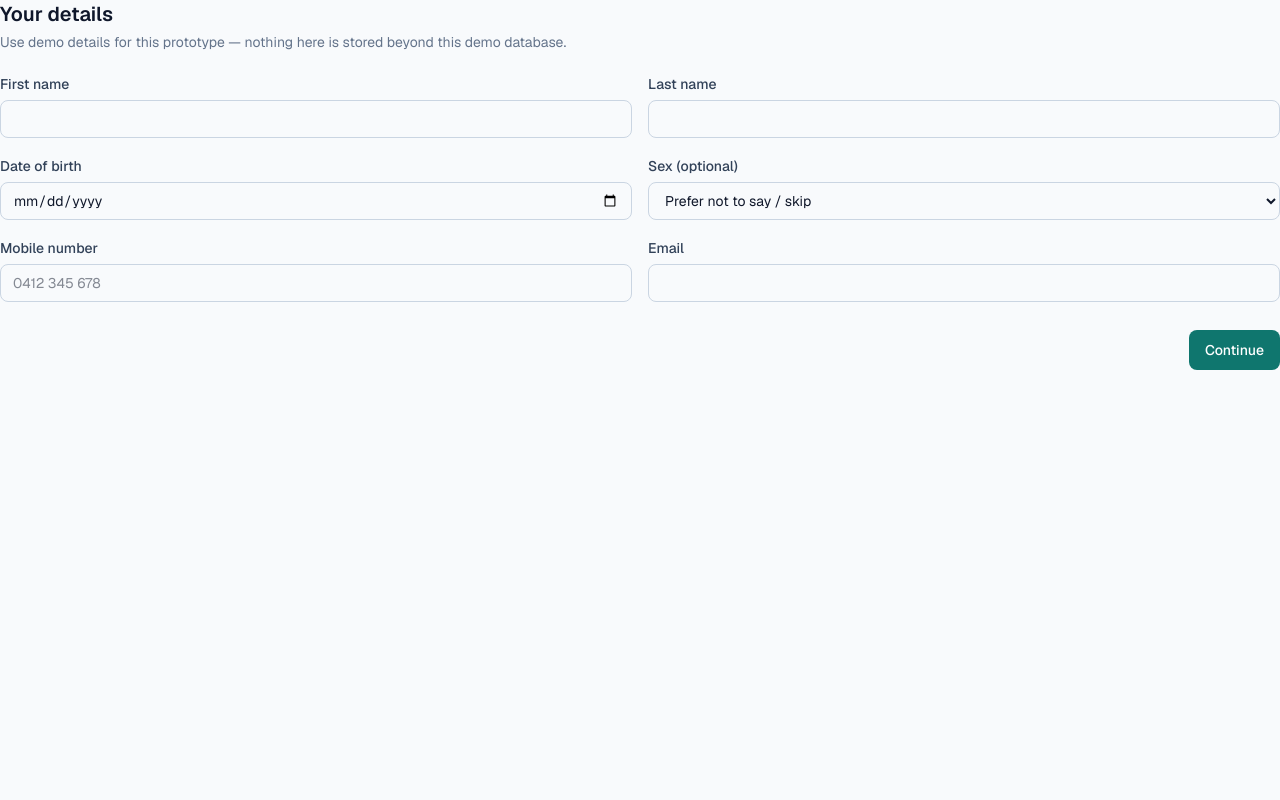
Test: validation prompt › opens a centred dialog listing every missing field and flashes each one
What coordinates should you click on to do the following:
click the button "Continue"
I would click on:
 (1234, 350)
Its box is top-left (1189, 330), bottom-right (1279, 370).
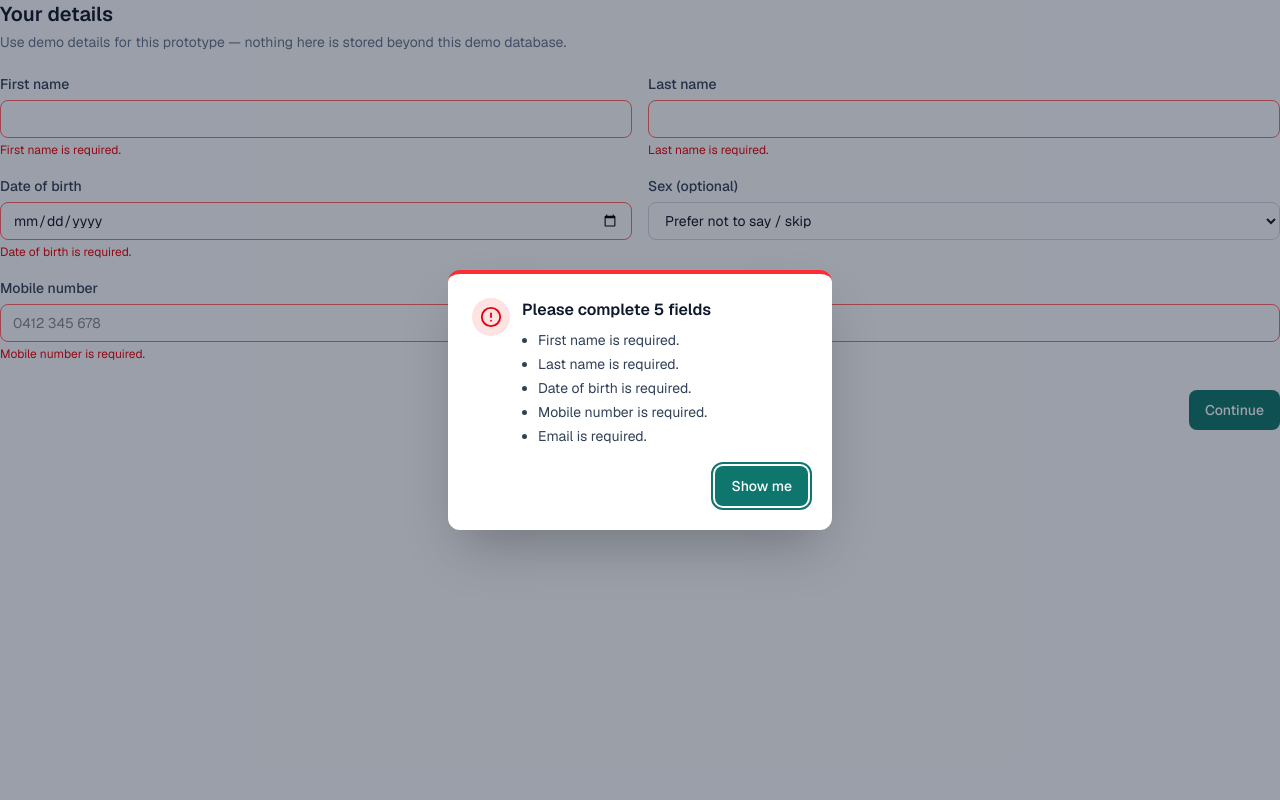
Now the dialog shows "Please complete 5 fields", box top-left (522, 299), bottom-right (711, 320)
Now the dialog shows "First name is required.", box top-left (538, 331), bottom-right (679, 349)
Now the dialog shows "Email is required.", box top-left (538, 427), bottom-right (646, 445)
